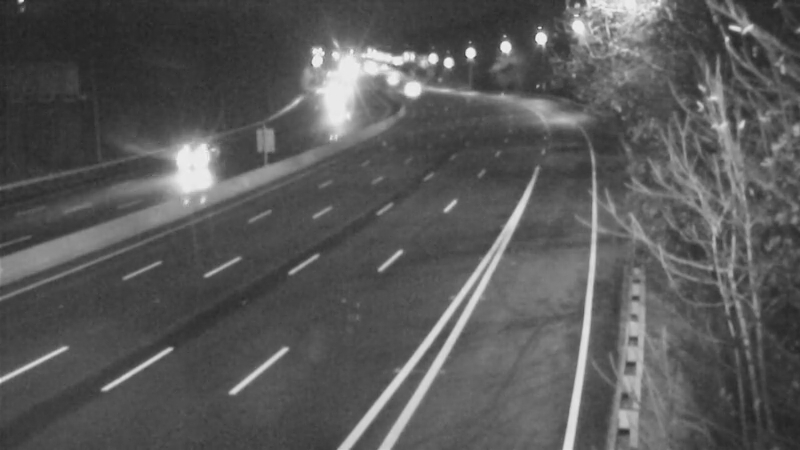vehicle: (159, 114, 239, 194), (387, 63, 437, 113)
